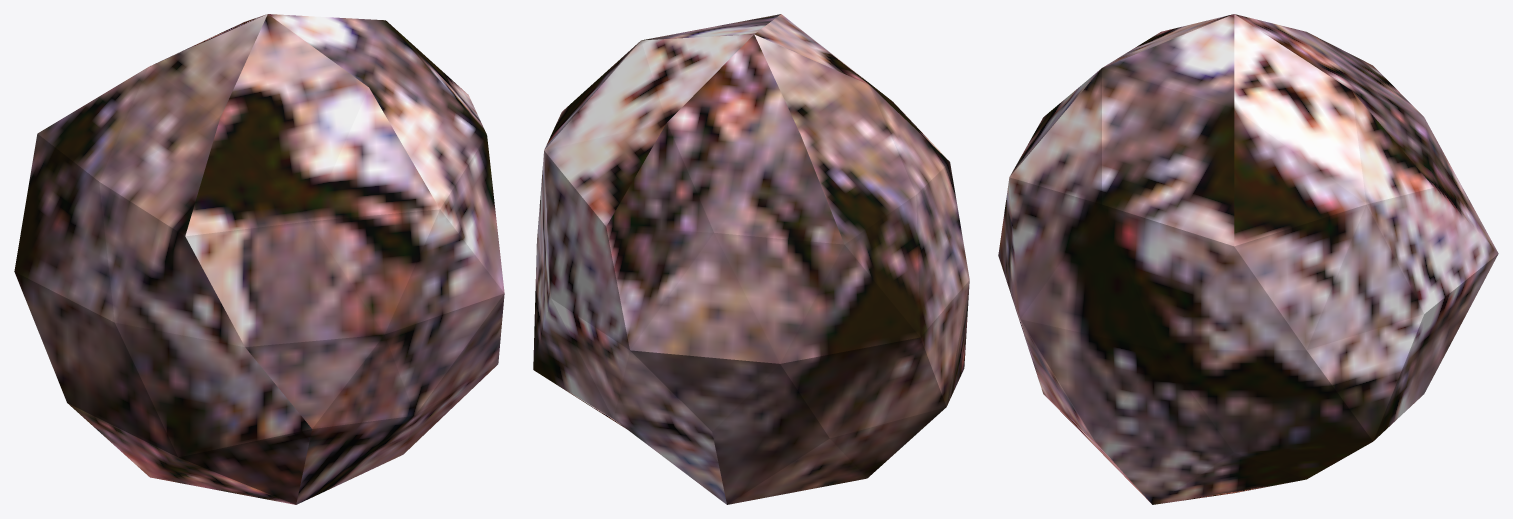
The model's file is Asteroid.fbx.
3 views of the same model, side by side, from view 1: azimuth 30°, elevation 25°; view 2: azimuth 150°, elevation 25°; view 3: azimuth 270°, elevation 25° (orthographic). The views are drawn at different scales.
Visible parts, largest first — view 1: Icosphere; view 2: Icosphere; view 3: Icosphere.
Boxes of the visible parts, <box> form: Icosphere: <box>14,14,504,504</box>; Icosphere: <box>533,14,969,504</box>; Icosphere: <box>998,14,1498,504</box>.
Size of the model in its own units: 10.36 by 11.23 by 10.62.
